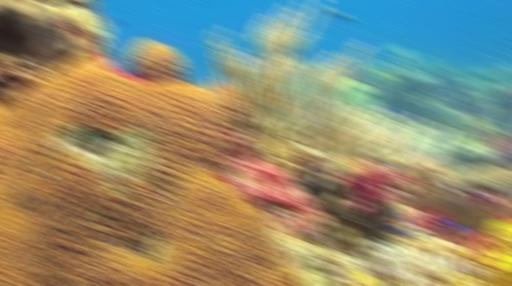Fish: (385, 226, 410, 236), (442, 221, 467, 230), (328, 9, 349, 19), (392, 107, 411, 116), (411, 227, 426, 237), (101, 16, 120, 23), (396, 212, 407, 223), (360, 89, 373, 96)
